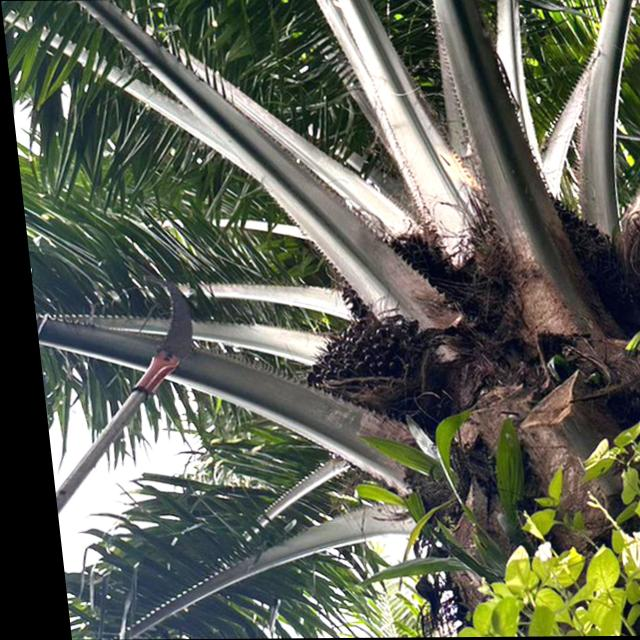unripe: (287, 310, 462, 422), (474, 183, 613, 309), (606, 186, 640, 315)
